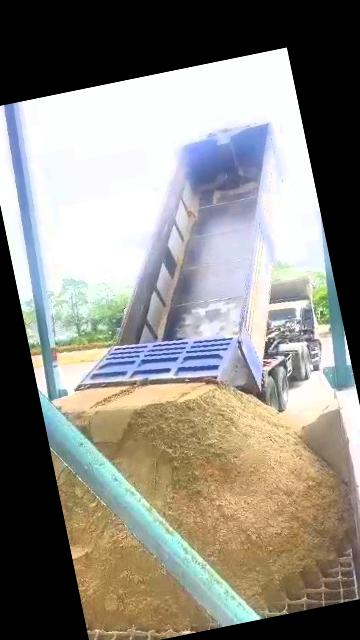sand: (59, 383, 348, 609), (52, 456, 208, 630), (301, 395, 348, 483)
